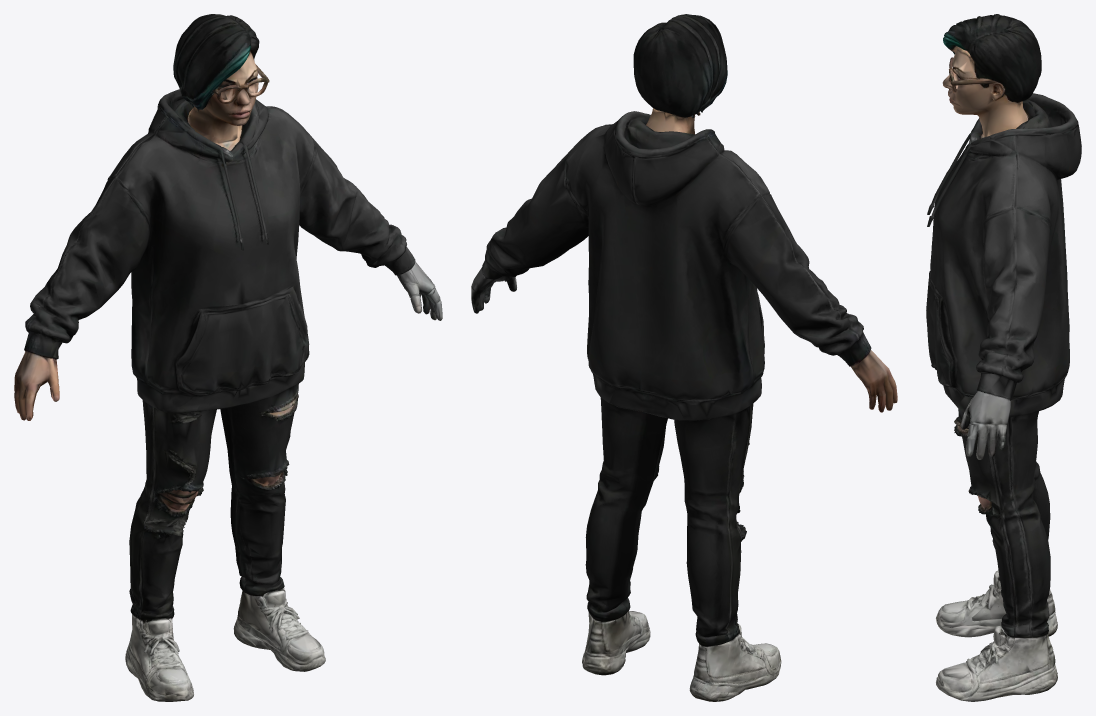
Rendered from Lena_Marchetti.glb.
3 renders of one model, left to right at view 1: azimuth 30°, elevation 25°; view 2: azimuth 150°, elevation 25°; view 3: azimuth 270°, elevation 25°, orthographic.
Visible parts, largest first — view 1: tripo_node_7f88ccee-da03-4f64-b63d-f1ab3d40ea88; view 2: tripo_node_7f88ccee-da03-4f64-b63d-f1ab3d40ea88; view 3: tripo_node_7f88ccee-da03-4f64-b63d-f1ab3d40ea88.
Boxes of the visible parts, bbox=[...] form: tripo_node_7f88ccee-da03-4f64-b63d-f1ab3d40ea88: bbox=[14, 14, 442, 701]; tripo_node_7f88ccee-da03-4f64-b63d-f1ab3d40ea88: bbox=[471, 14, 897, 701]; tripo_node_7f88ccee-da03-4f64-b63d-f1ab3d40ea88: bbox=[926, 14, 1081, 701].
Size of the model in its own units: 0.6567 by 0.9796 by 0.2146.
Materials: 1 (1 with a texture image).
